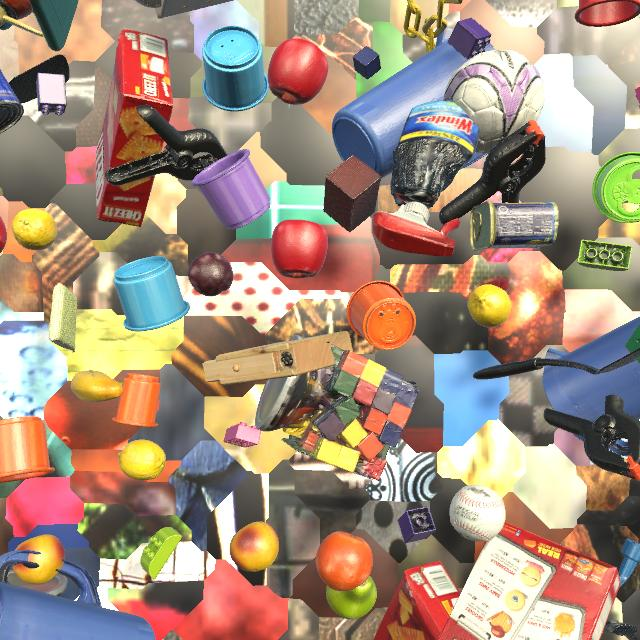ycb_002_master_chef_can: (0, 69, 24, 134)
ycb_003_cracker_box: (438, 522, 621, 640), (95, 30, 173, 227), (373, 561, 460, 640)
ycb_010_potted_meat_can: (470, 201, 559, 251)
ycb_011_banana: (71, 370, 123, 402)
ycb_013_apple: (268, 38, 328, 105), (271, 219, 328, 278), (0, 216, 7, 253)
ycb_014_lemon: (118, 440, 166, 480), (468, 284, 511, 328), (12, 209, 57, 250)
ycb_015_peach: (12, 534, 65, 585), (229, 521, 279, 572)
ycb_016_pear: (326, 576, 377, 620)
ycb_017_orange: (316, 531, 373, 591)
ycb_018_plum: (188, 252, 234, 297)
